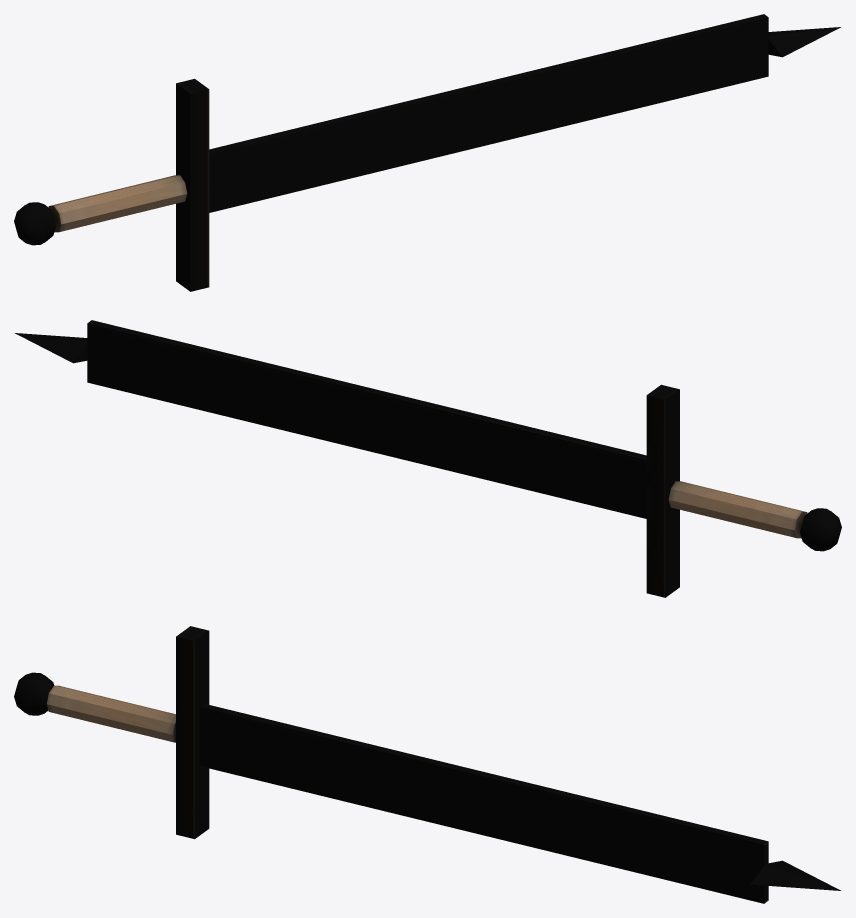
The model's file is sword.glb.
3 renders of one model, top to bottom at view 1: azimuth 30°, elevation 25°; view 2: azimuth 150°, elevation 25°; view 3: azimuth 330°, elevation 25°, orthographic.
Visible parts, largest first — view 1: blade; view 2: blade; view 3: blade.
Part boxes in pixels (x1,y1,x2,y2): blade: [14, 14, 840, 291]; blade: [15, 320, 841, 597]; blade: [14, 626, 840, 903].
Size of the model in its own units: 1.31 by 0.3 by 0.09.
1 material, 1 textured.
